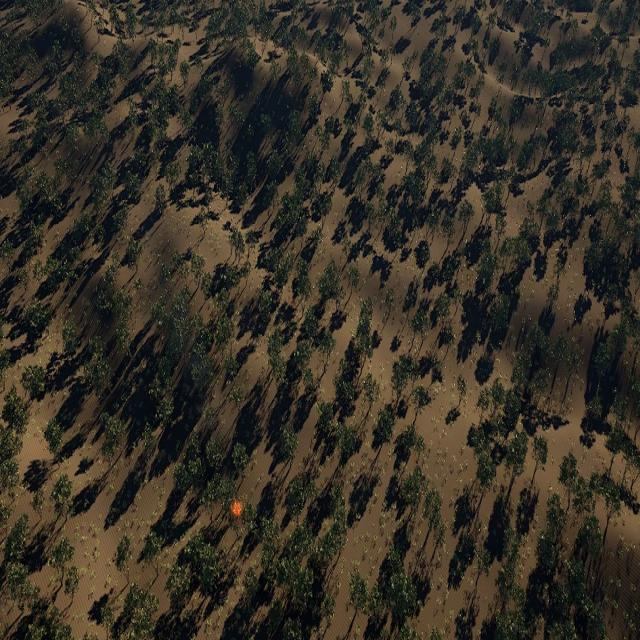fire: (233, 501, 244, 516)
